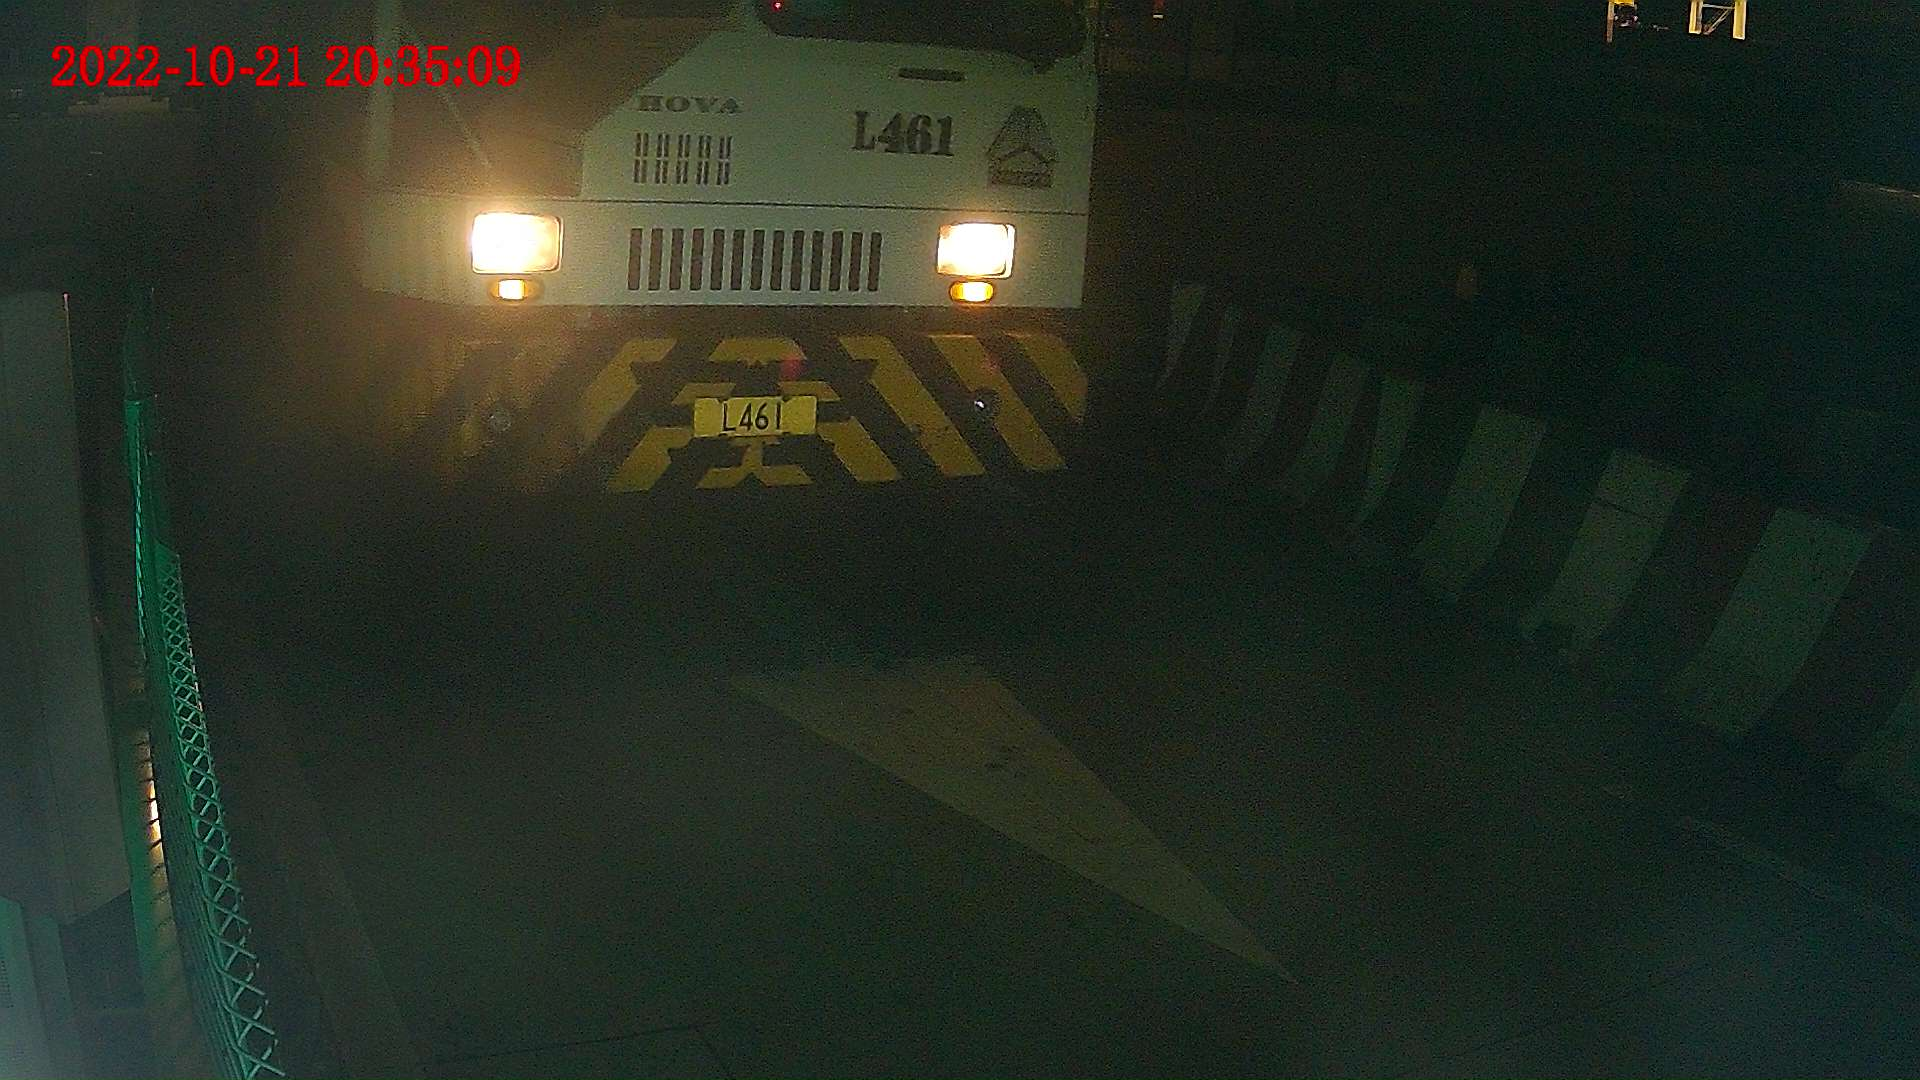head: (279, 1, 1091, 515)
plate: (688, 397, 824, 434)
